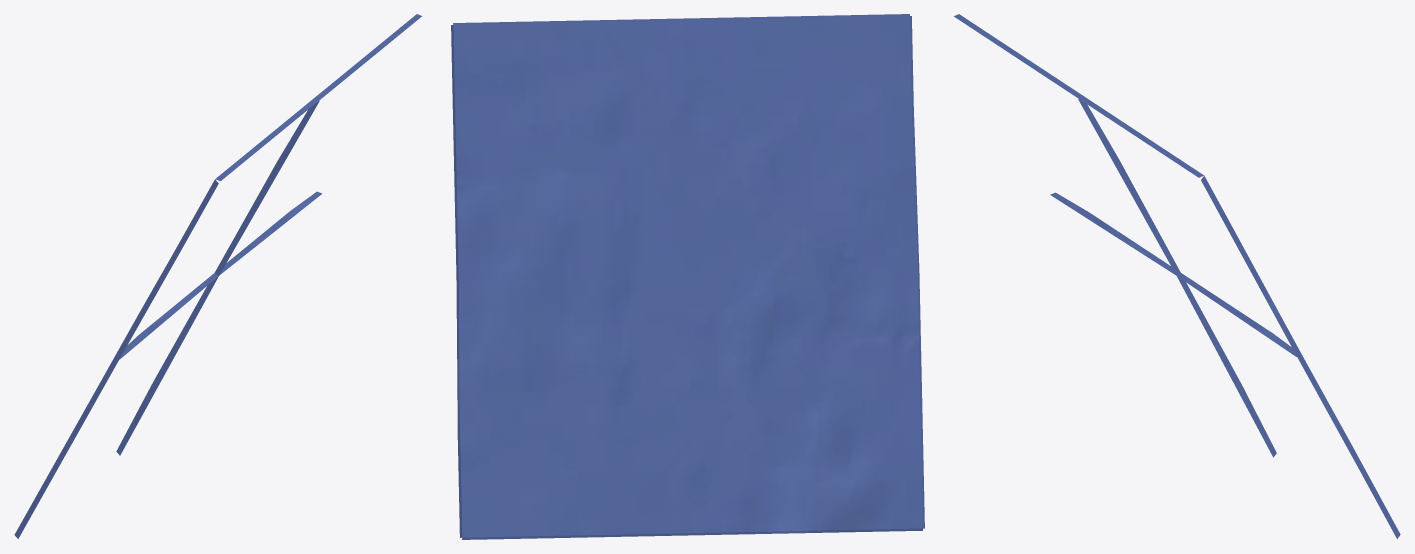
The picture shows the model from 3 angles, left to right: view 1: azimuth 30°, elevation 25°; view 2: azimuth 150°, elevation 25°; view 3: azimuth 270°, elevation 25°; orthographic projection. The views are drawn at different scales.
Bounding box in the file's own units: 78901 × 70395 × 68685.
1 material, 1 textured.
